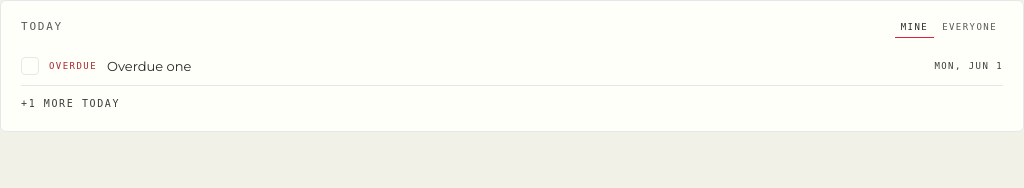
TodayPanel hot deals › swaps the expander for Show less on a panel of fewer than five rows
Click the button "+1 more today" at (71, 98), box [21, 86, 120, 111]
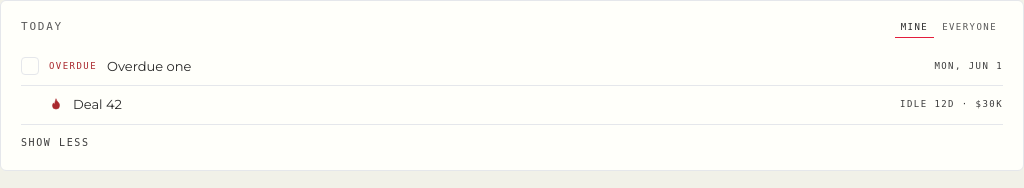
Check: the button "Show less" is shown
Click the button "Show less" at (55, 137), box [21, 124, 90, 150]
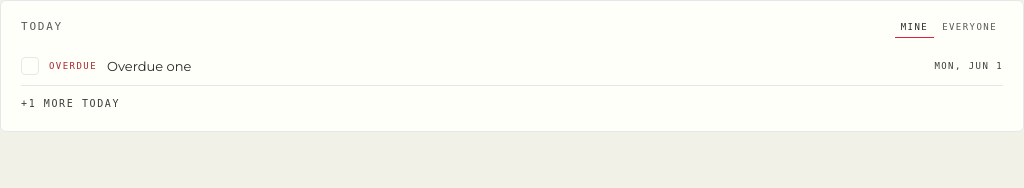
Check: the button "+1 more today" is shown, box [21, 86, 120, 111]
